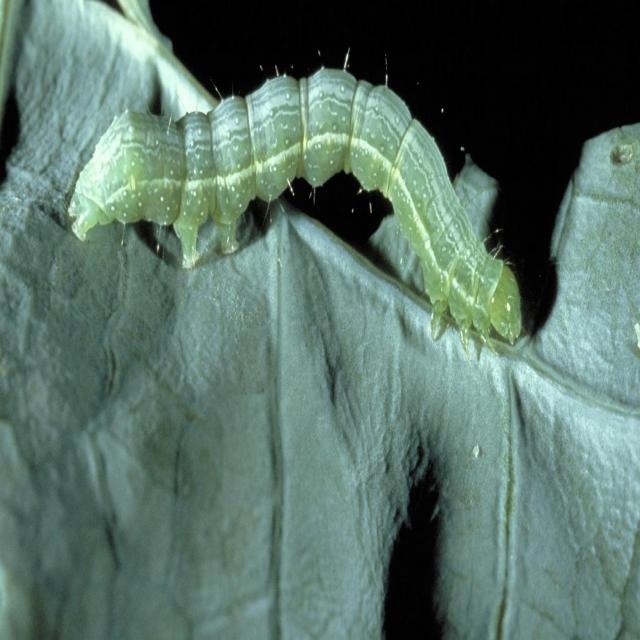BeetArmyWorm-Larva-: (61, 56, 528, 362)
